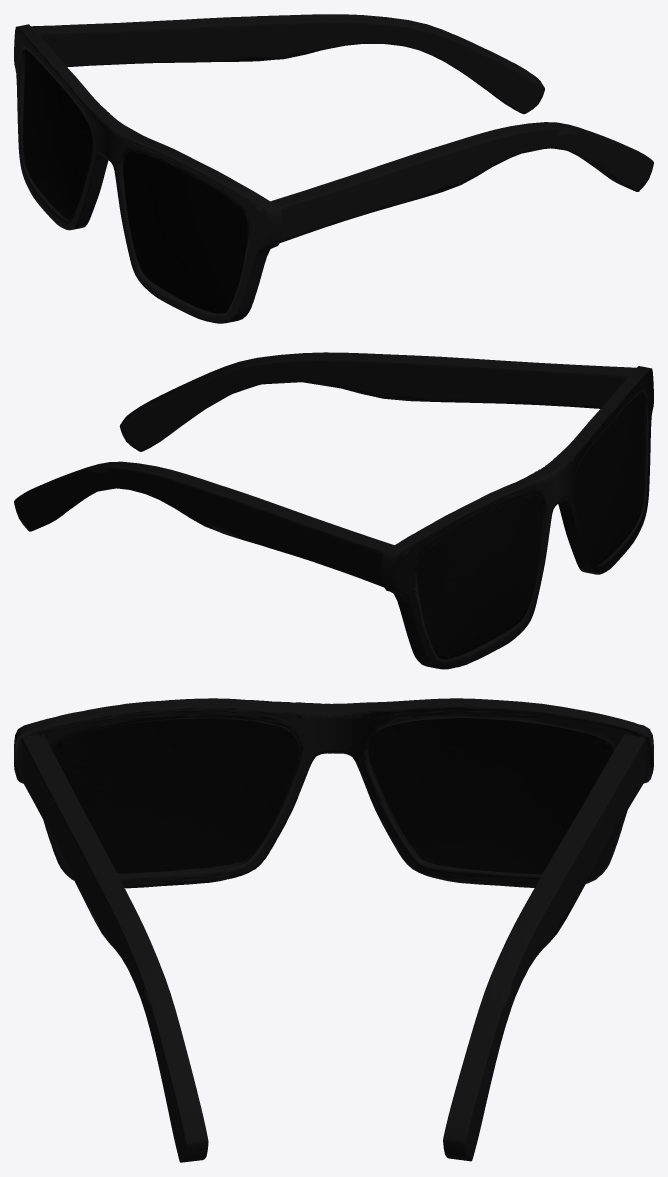
The model's file is sunglass.glb.
The picture shows the model from 3 angles, top to bottom: view 1: azimuth 30°, elevation 25°; view 2: azimuth 150°, elevation 25°; view 3: azimuth 270°, elevation 25°; orthographic projection. The views are drawn at different scales.
Visible parts, largest first — view 1: HasteD, HasteE, Armacao, LenteE, LenteD; view 2: HasteE, HasteD, Armacao, LenteD, LenteE; view 3: LenteE, LenteD, Armacao, HasteD, HasteE.
Part boxes in pixels (bbox=[...]): HasteD: bbox=[31, 14, 544, 114]; HasteE: bbox=[270, 122, 653, 242]; Armacao: bbox=[14, 24, 282, 323]; LenteE: bbox=[123, 151, 247, 313]; LenteD: bbox=[23, 49, 92, 220]; HasteE: bbox=[119, 352, 636, 451]; HasteD: bbox=[14, 461, 394, 587]; Armacao: bbox=[382, 366, 653, 669]; LenteD: bbox=[417, 495, 542, 659]; LenteE: bbox=[574, 392, 644, 564]; LenteE: bbox=[53, 718, 299, 873]; LenteD: bbox=[368, 718, 614, 874]; Armacao: bbox=[14, 698, 653, 888]; HasteD: bbox=[443, 734, 645, 1161]; HasteE: bbox=[21, 734, 208, 1162].
Size of the model in its own units: 0.1835 by 0.052 by 0.1654.
Materials: 5 (5 with a texture image).
